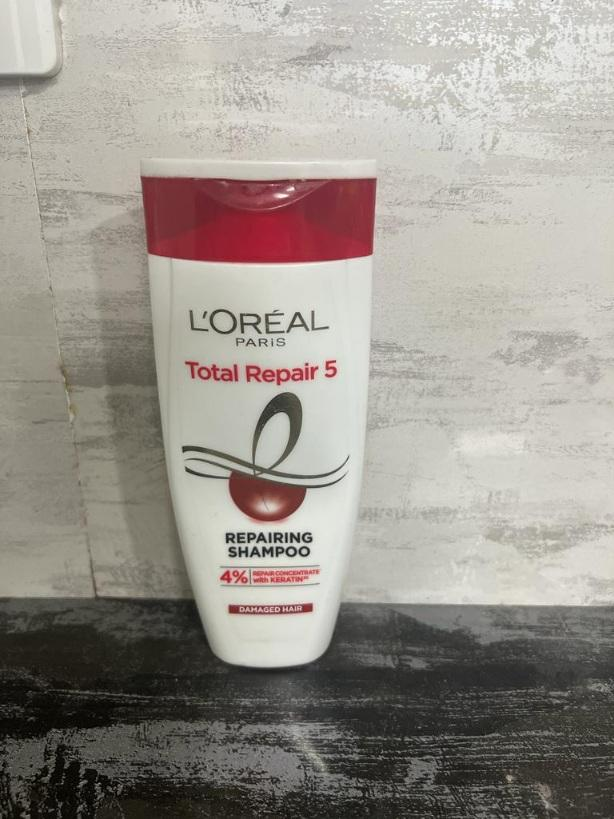Loreal: (143, 156, 380, 665)
